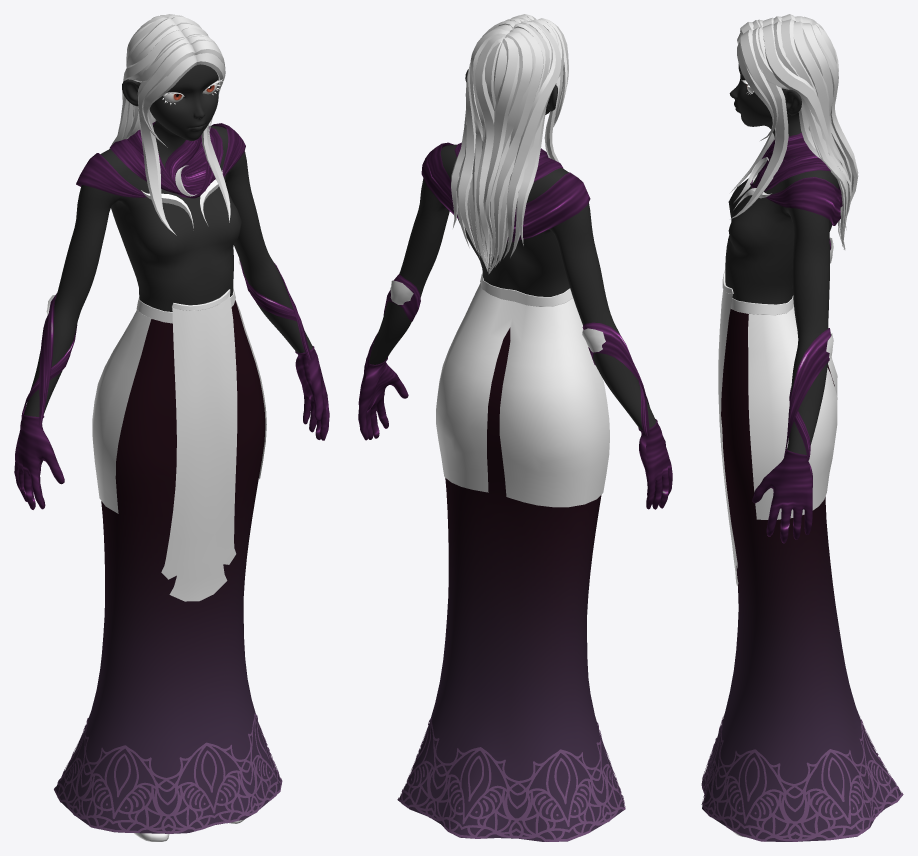
Rendered from Ardid_Export.fbx.
The picture shows the model from 3 angles, left to right: view 1: azimuth 30°, elevation 25°; view 2: azimuth 150°, elevation 25°; view 3: azimuth 270°, elevation 25°; orthographic projection.
Parts seen in each view (by area): view 1: GEO-body_female_stylized.002, Body_LP, Plane.007, BezierCurve, GEO-body_female_stylized.006, GEO-body_female_stylized.004, GEO-body_female_stylized.005, Plane.010, Plane.003, Plane.004, Plane.005, Plane.006; view 2: GEO-body_female_stylized.002, GEO-body_female_stylized.004, BezierCurve, Body_LP, GEO-body_female_stylized.006, GEO-body_female_stylized.005, Plane.003, Plane.010, GEO-body_female_stylized.001, Plane.009; view 3: GEO-body_female_stylized.002, Body_LP, BezierCurve, GEO-body_female_stylized.004, GEO-body_female_stylized.006, GEO-body_female_stylized.005, Plane.010, Plane.003, Plane.007, Plane.004, GEO-body_female_stylized.001, Plane.005.
Boxes of the visible parts, left/top/right/bottom form: GEO-body_female_stylized.002: left=55, top=300, right=281, bottom=833; Body_LP: left=24, top=64, right=312, bottom=416; Plane.007: left=161, top=294, right=237, bottom=601; BezierCurve: left=109, top=14, right=230, bottom=235; GEO-body_female_stylized.006: left=54, top=713, right=282, bottom=833; GEO-body_female_stylized.004: left=92, top=299, right=266, bottom=513; GEO-body_female_stylized.005: left=14, top=346, right=329, bottom=509; Plane.010: left=21, top=259, right=311, bottom=425; Plane.003: left=76, top=123, right=245, bottom=197; Plane.004: left=110, top=127, right=223, bottom=198; Plane.005: left=128, top=121, right=201, bottom=190; Plane.006: left=174, top=137, right=206, bottom=197; GEO-body_female_stylized.002: left=398, top=327, right=624, bottom=841; GEO-body_female_stylized.004: left=436, top=283, right=609, bottom=507; BezierCurve: left=451, top=14, right=568, bottom=273; Body_LP: left=369, top=69, right=656, bottom=430; GEO-body_female_stylized.006: left=397, top=718, right=625, bottom=841; GEO-body_female_stylized.005: left=358, top=357, right=672, bottom=509; Plane.003: left=421, top=142, right=590, bottom=241; Plane.010: left=365, top=274, right=649, bottom=435; GEO-body_female_stylized.001: left=480, top=273, right=572, bottom=306; Plane.009: left=390, top=280, right=605, bottom=352; GEO-body_female_stylized.002: left=702, top=309, right=901, bottom=841; Body_LP: left=725, top=64, right=838, bottom=454; BezierCurve: left=730, top=14, right=858, bottom=249; GEO-body_female_stylized.004: left=748, top=306, right=837, bottom=519; GEO-body_female_stylized.006: left=701, top=716, right=903, bottom=841; GEO-body_female_stylized.005: left=752, top=448, right=812, bottom=543; Plane.010: left=784, top=239, right=830, bottom=460; Plane.003: left=766, top=177, right=842, bottom=225; Plane.007: left=718, top=289, right=738, bottom=585; Plane.004: left=750, top=145, right=830, bottom=191; GEO-body_female_stylized.001: left=730, top=295, right=793, bottom=315; Plane.005: left=760, top=133, right=812, bottom=171.
Bounding box in the file's own units: 0.7122 × 1.79 × 0.4136.
